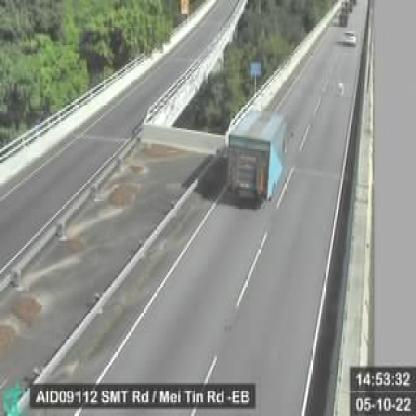Truck: (224, 112, 286, 204)
